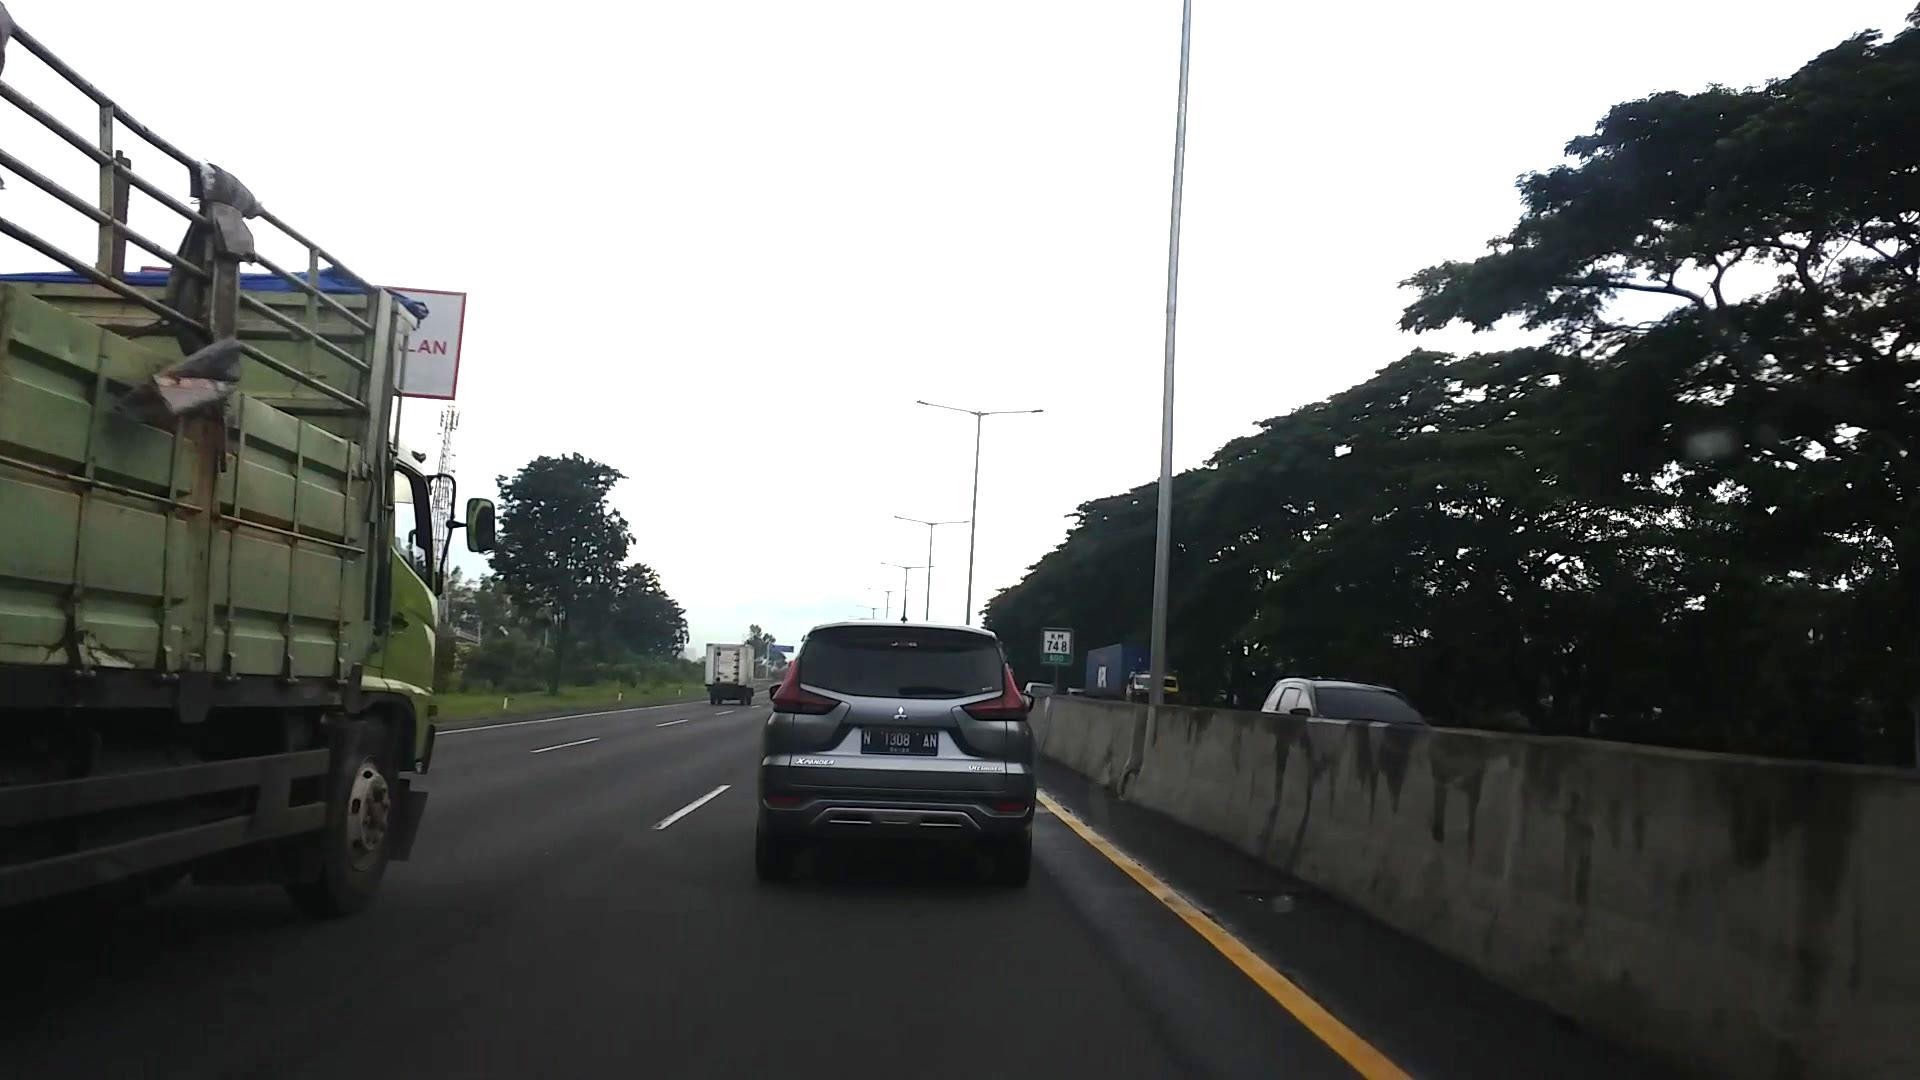plate_positive: (861, 728, 938, 756)
